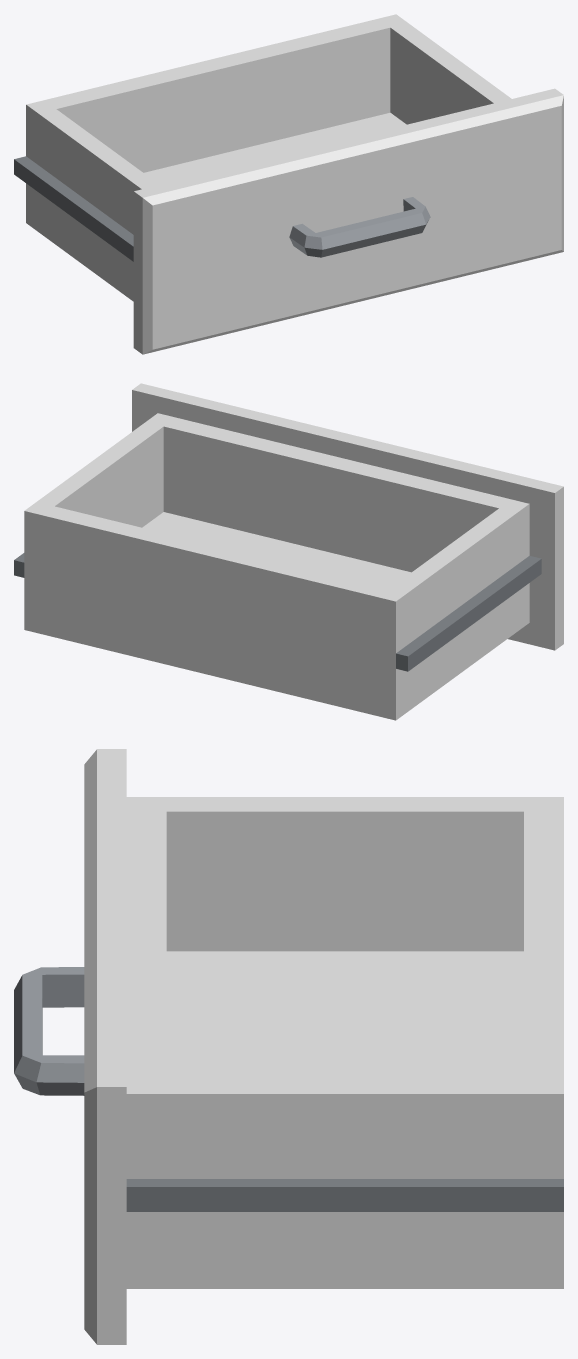
Rendered from SM_Prop_Bedside_Table_01_Drawer_02.obj.
3 renders of one model, top to bottom at view 1: azimuth 30°, elevation 25°; view 2: azimuth 150°, elevation 25°; view 3: azimuth 270°, elevation 25°, orthographic. The views are drawn at different scales.
Parts seen in each view (by area): view 1: SM_Prop_Bedside_Table_01_Drawer_02_0; view 2: SM_Prop_Bedside_Table_01_Drawer_02_0; view 3: SM_Prop_Bedside_Table_01_Drawer_02_0.
Boxes of the visible parts, box(x1,y1,x2,y2) form: SM_Prop_Bedside_Table_01_Drawer_02_0: box(14, 14, 563, 354); SM_Prop_Bedside_Table_01_Drawer_02_0: box(14, 383, 563, 720); SM_Prop_Bedside_Table_01_Drawer_02_0: box(14, 749, 563, 1344).
Size of the model in its own units: 0.7202 by 0.2563 by 0.4953.
1 material, 1 textured.
